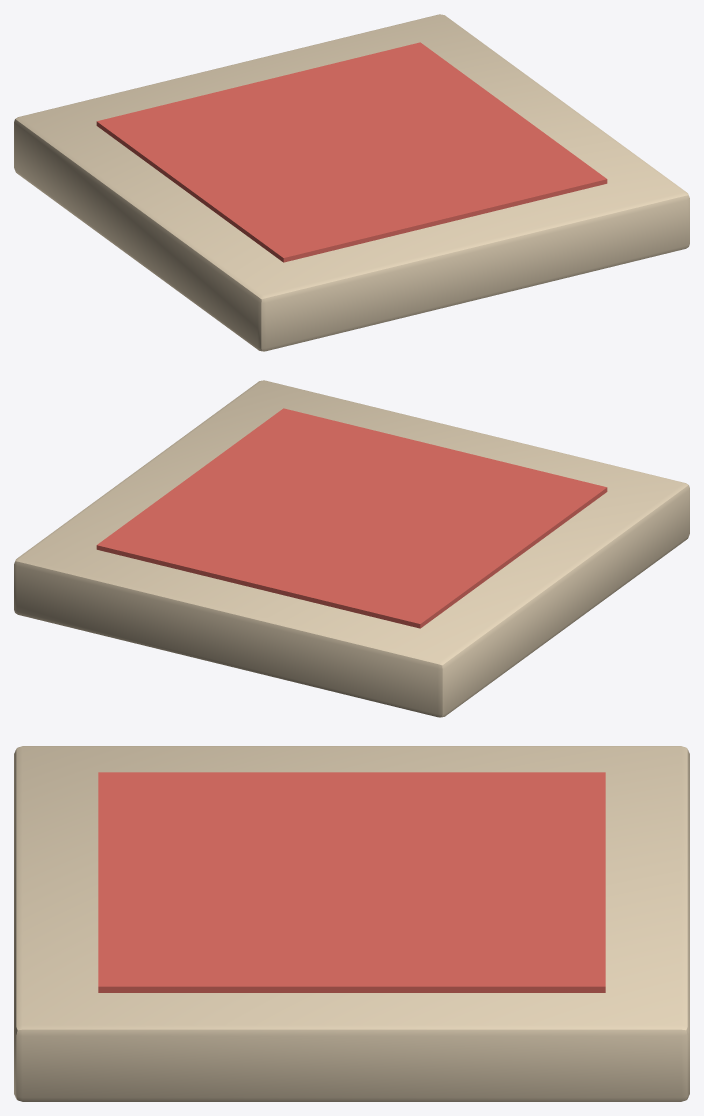
File: sd_pizza.glb
The picture shows the model from 3 angles, top to bottom: view 1: azimuth 30°, elevation 25°; view 2: azimuth 150°, elevation 25°; view 3: azimuth 270°, elevation 25°; orthographic projection. The views are drawn at different scales.
Visible parts, largest first — view 1: Cube; view 2: Cube; view 3: Cube.
Part boxes in pixels (x1=…): Cube: x1=14, y1=14, x2=689, y2=351; Cube: x1=14, y1=380, x2=689, y2=717; Cube: x1=14, y1=746, x2=689, y2=1101.
Size of the model in its own units: 0.4 by 0.054 by 0.4.
